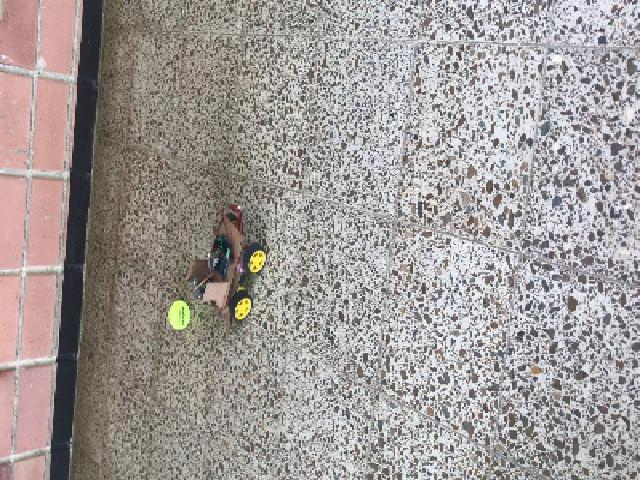Ball: (166, 301, 190, 329)
Robot: (184, 212, 267, 325)
